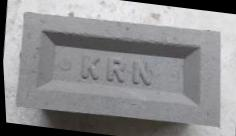brick: (10, 6, 232, 130)
